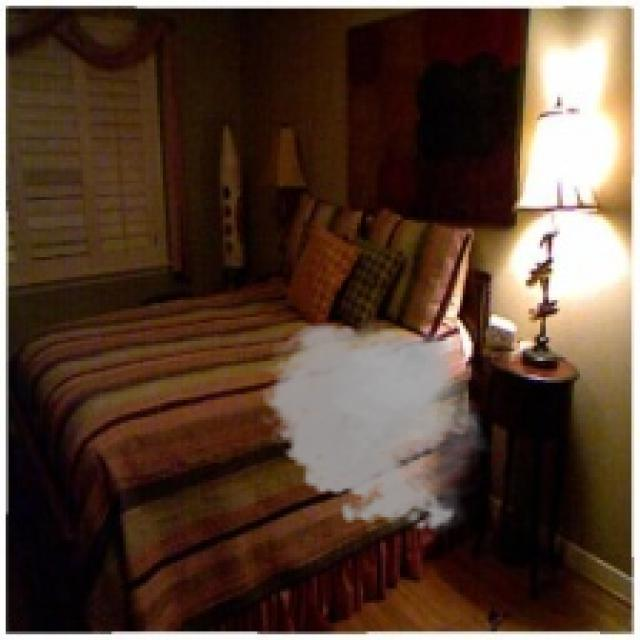smoke: (255, 314, 494, 537)
